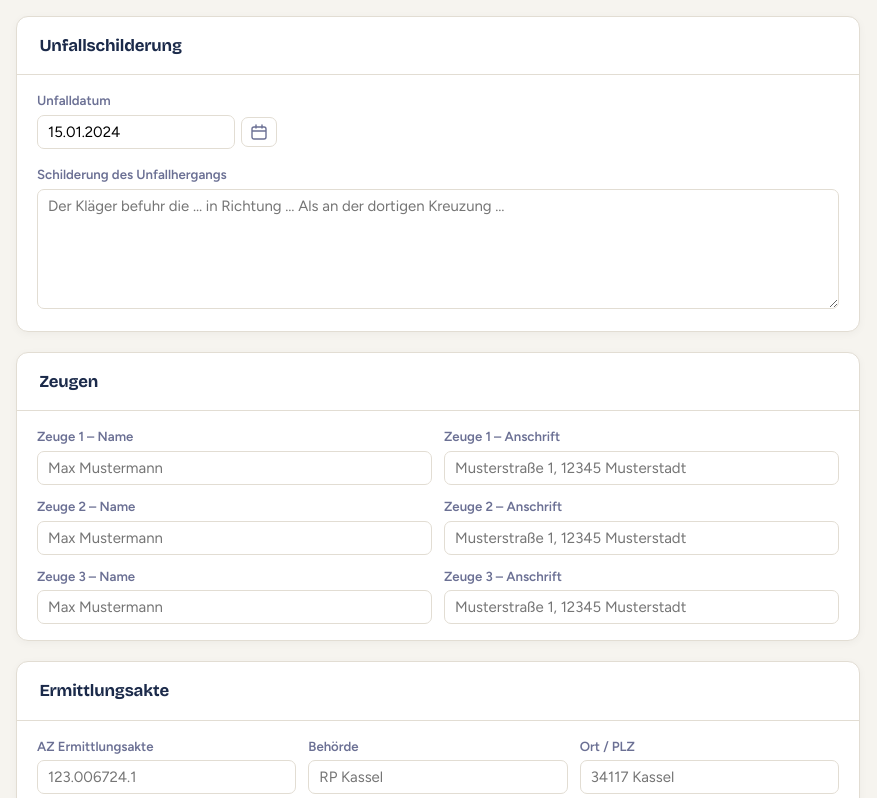
it: UnfalldetailsSection – Unfalldatum-Feld › normalisiert lockere Eingabe beim Verlassen des Feldes
Replace the text in the field showing "15.01.2024" with "5.3.24" at (136, 132), box [37, 115, 235, 149]
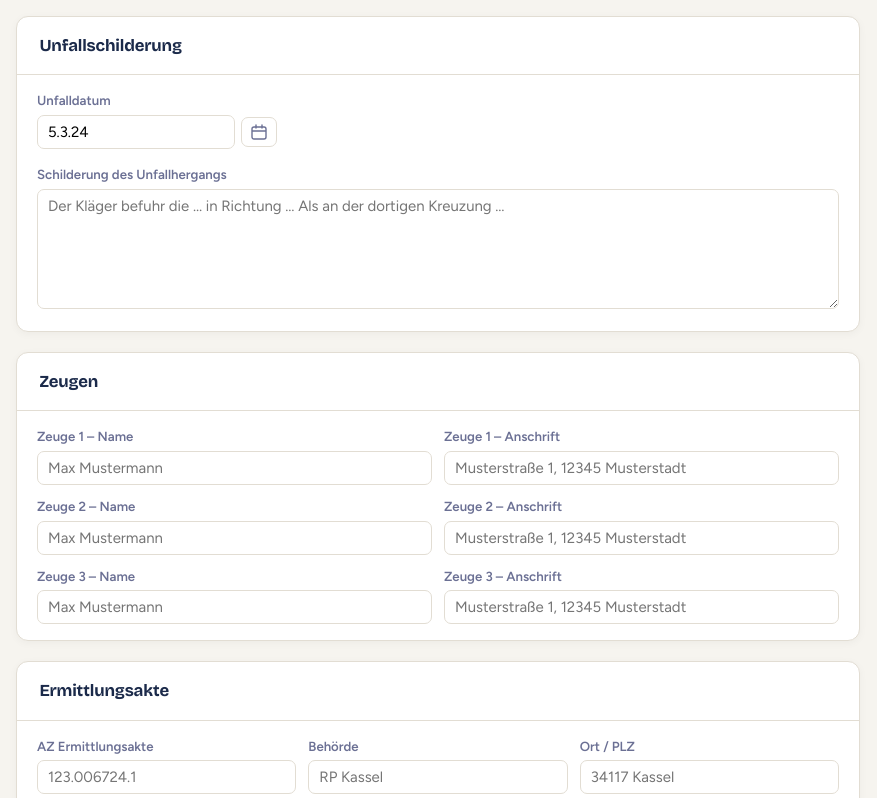
Leave the field showing "15.01.2024", box [37, 115, 235, 149]
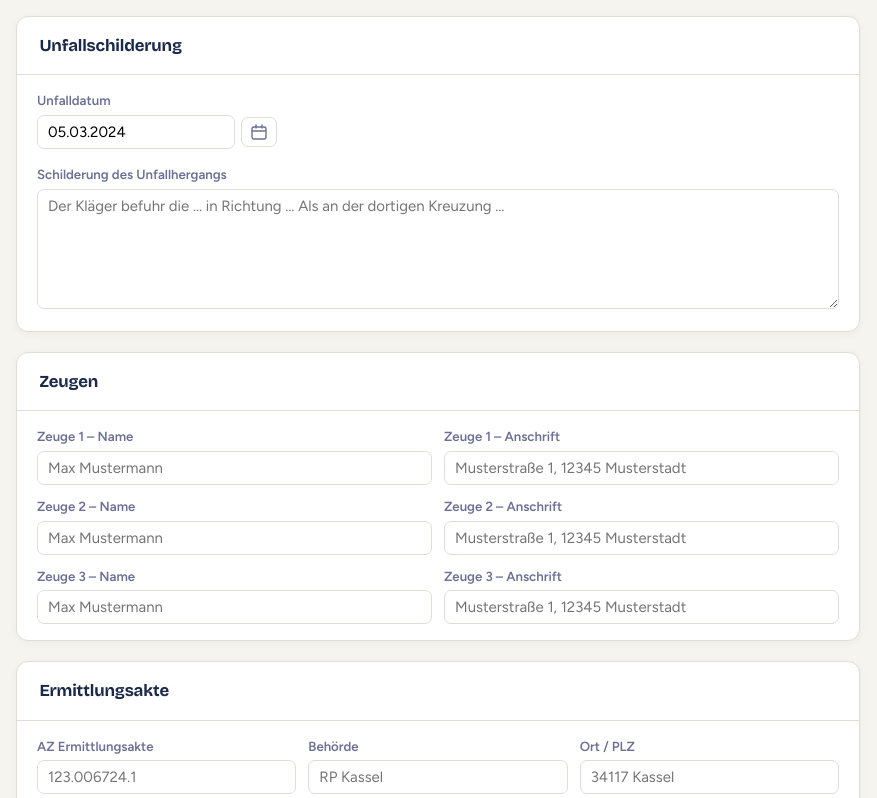
Expected: the field showing "05.03.2024" is shown, [37, 115, 235, 149]
